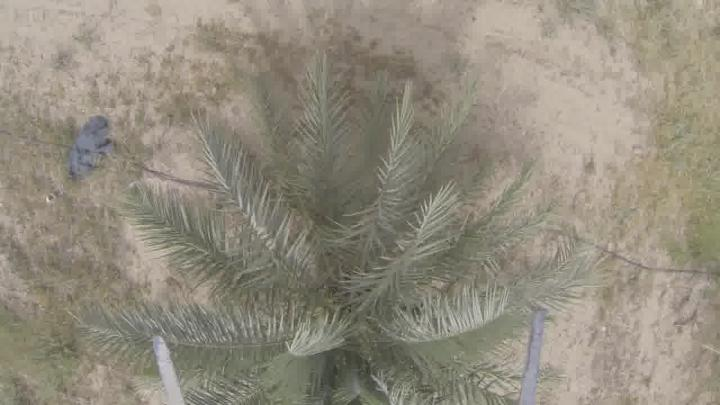Date-Palm-Crown: (162, 151, 490, 405)
